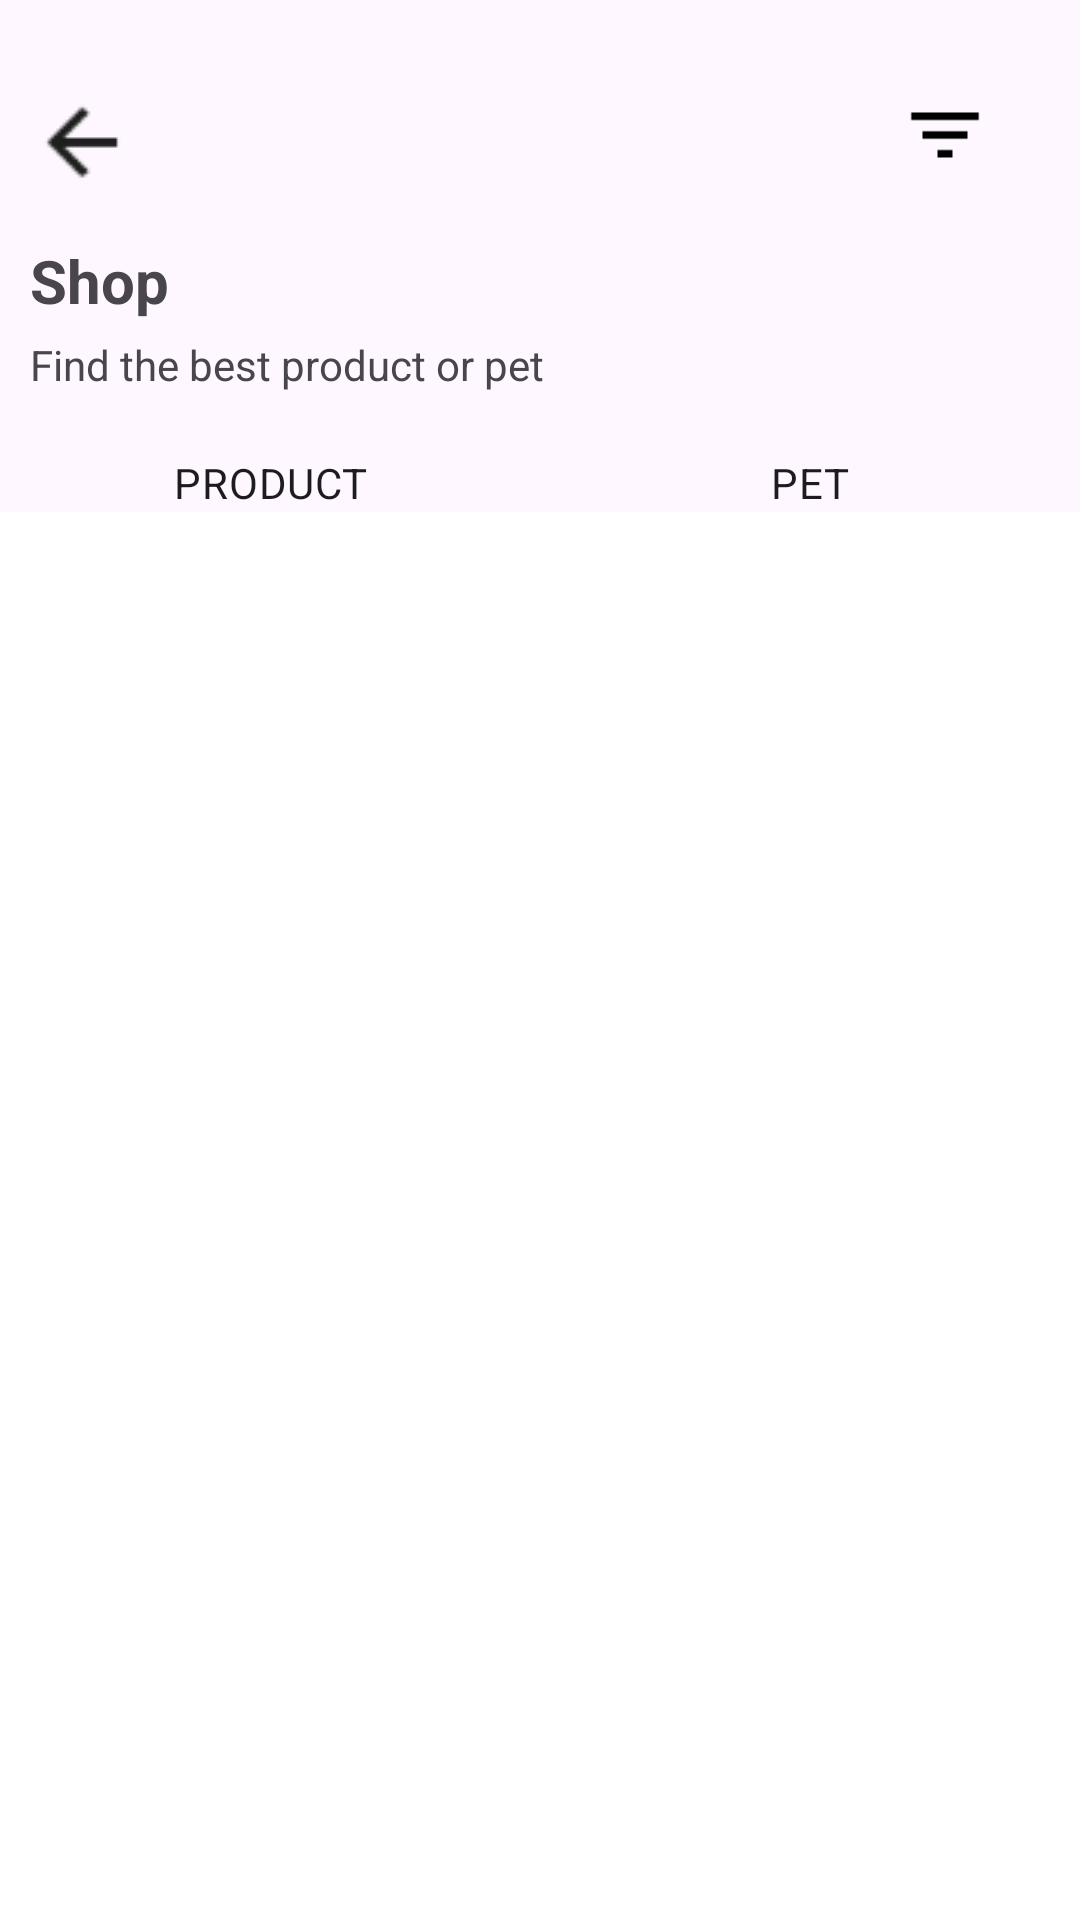

Screen size 1080w x 1920h. Icon name, then its box in pixels as (x1=x1, y1=y1, x2=x2, y2=y2):
back: (x1=47, y1=107, x2=118, y2=178)
